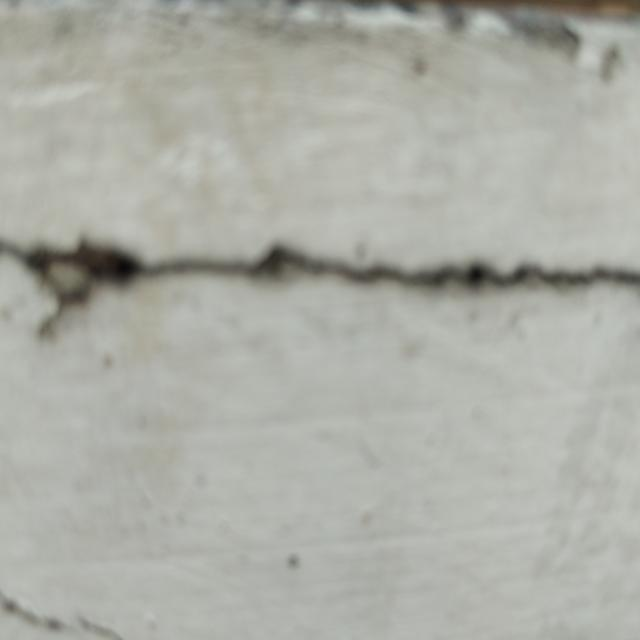horizontal crack: (0, 239, 640, 310)
